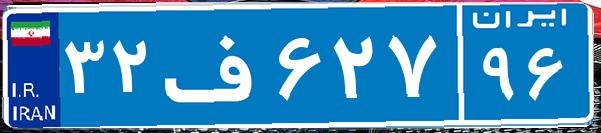2: (330, 28, 385, 110), (110, 28, 158, 105)
3: (57, 26, 110, 107)
6: (273, 28, 330, 110), (525, 38, 570, 115)
7: (385, 28, 445, 110)
9: (475, 38, 525, 113)
ف: (158, 15, 273, 115)
